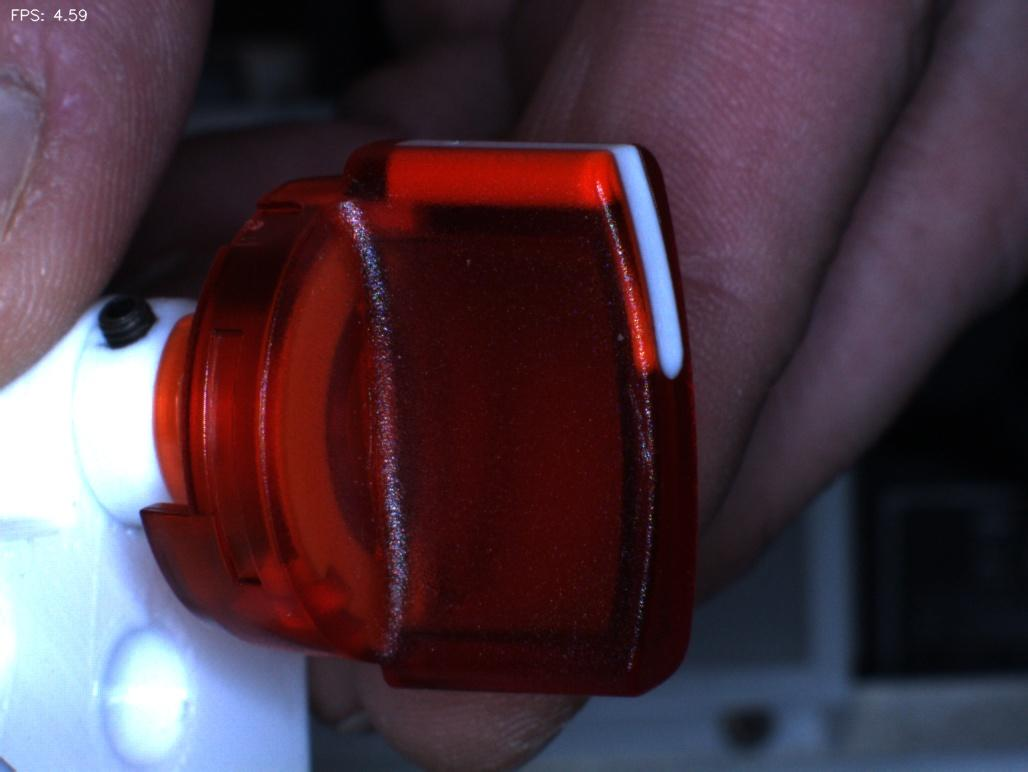Givrage: (597, 377, 674, 514)
